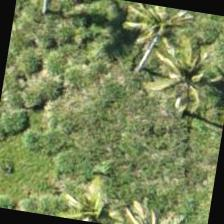Kelapa_Sawit: (145, 19, 223, 121), (94, 0, 194, 73), (47, 159, 146, 223)
